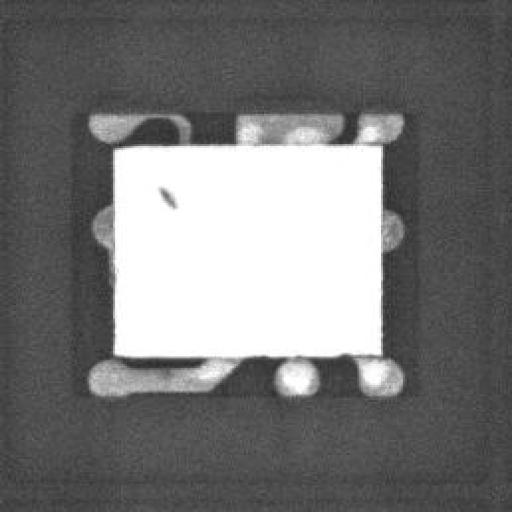DIE_INK: (146, 192, 167, 218)
